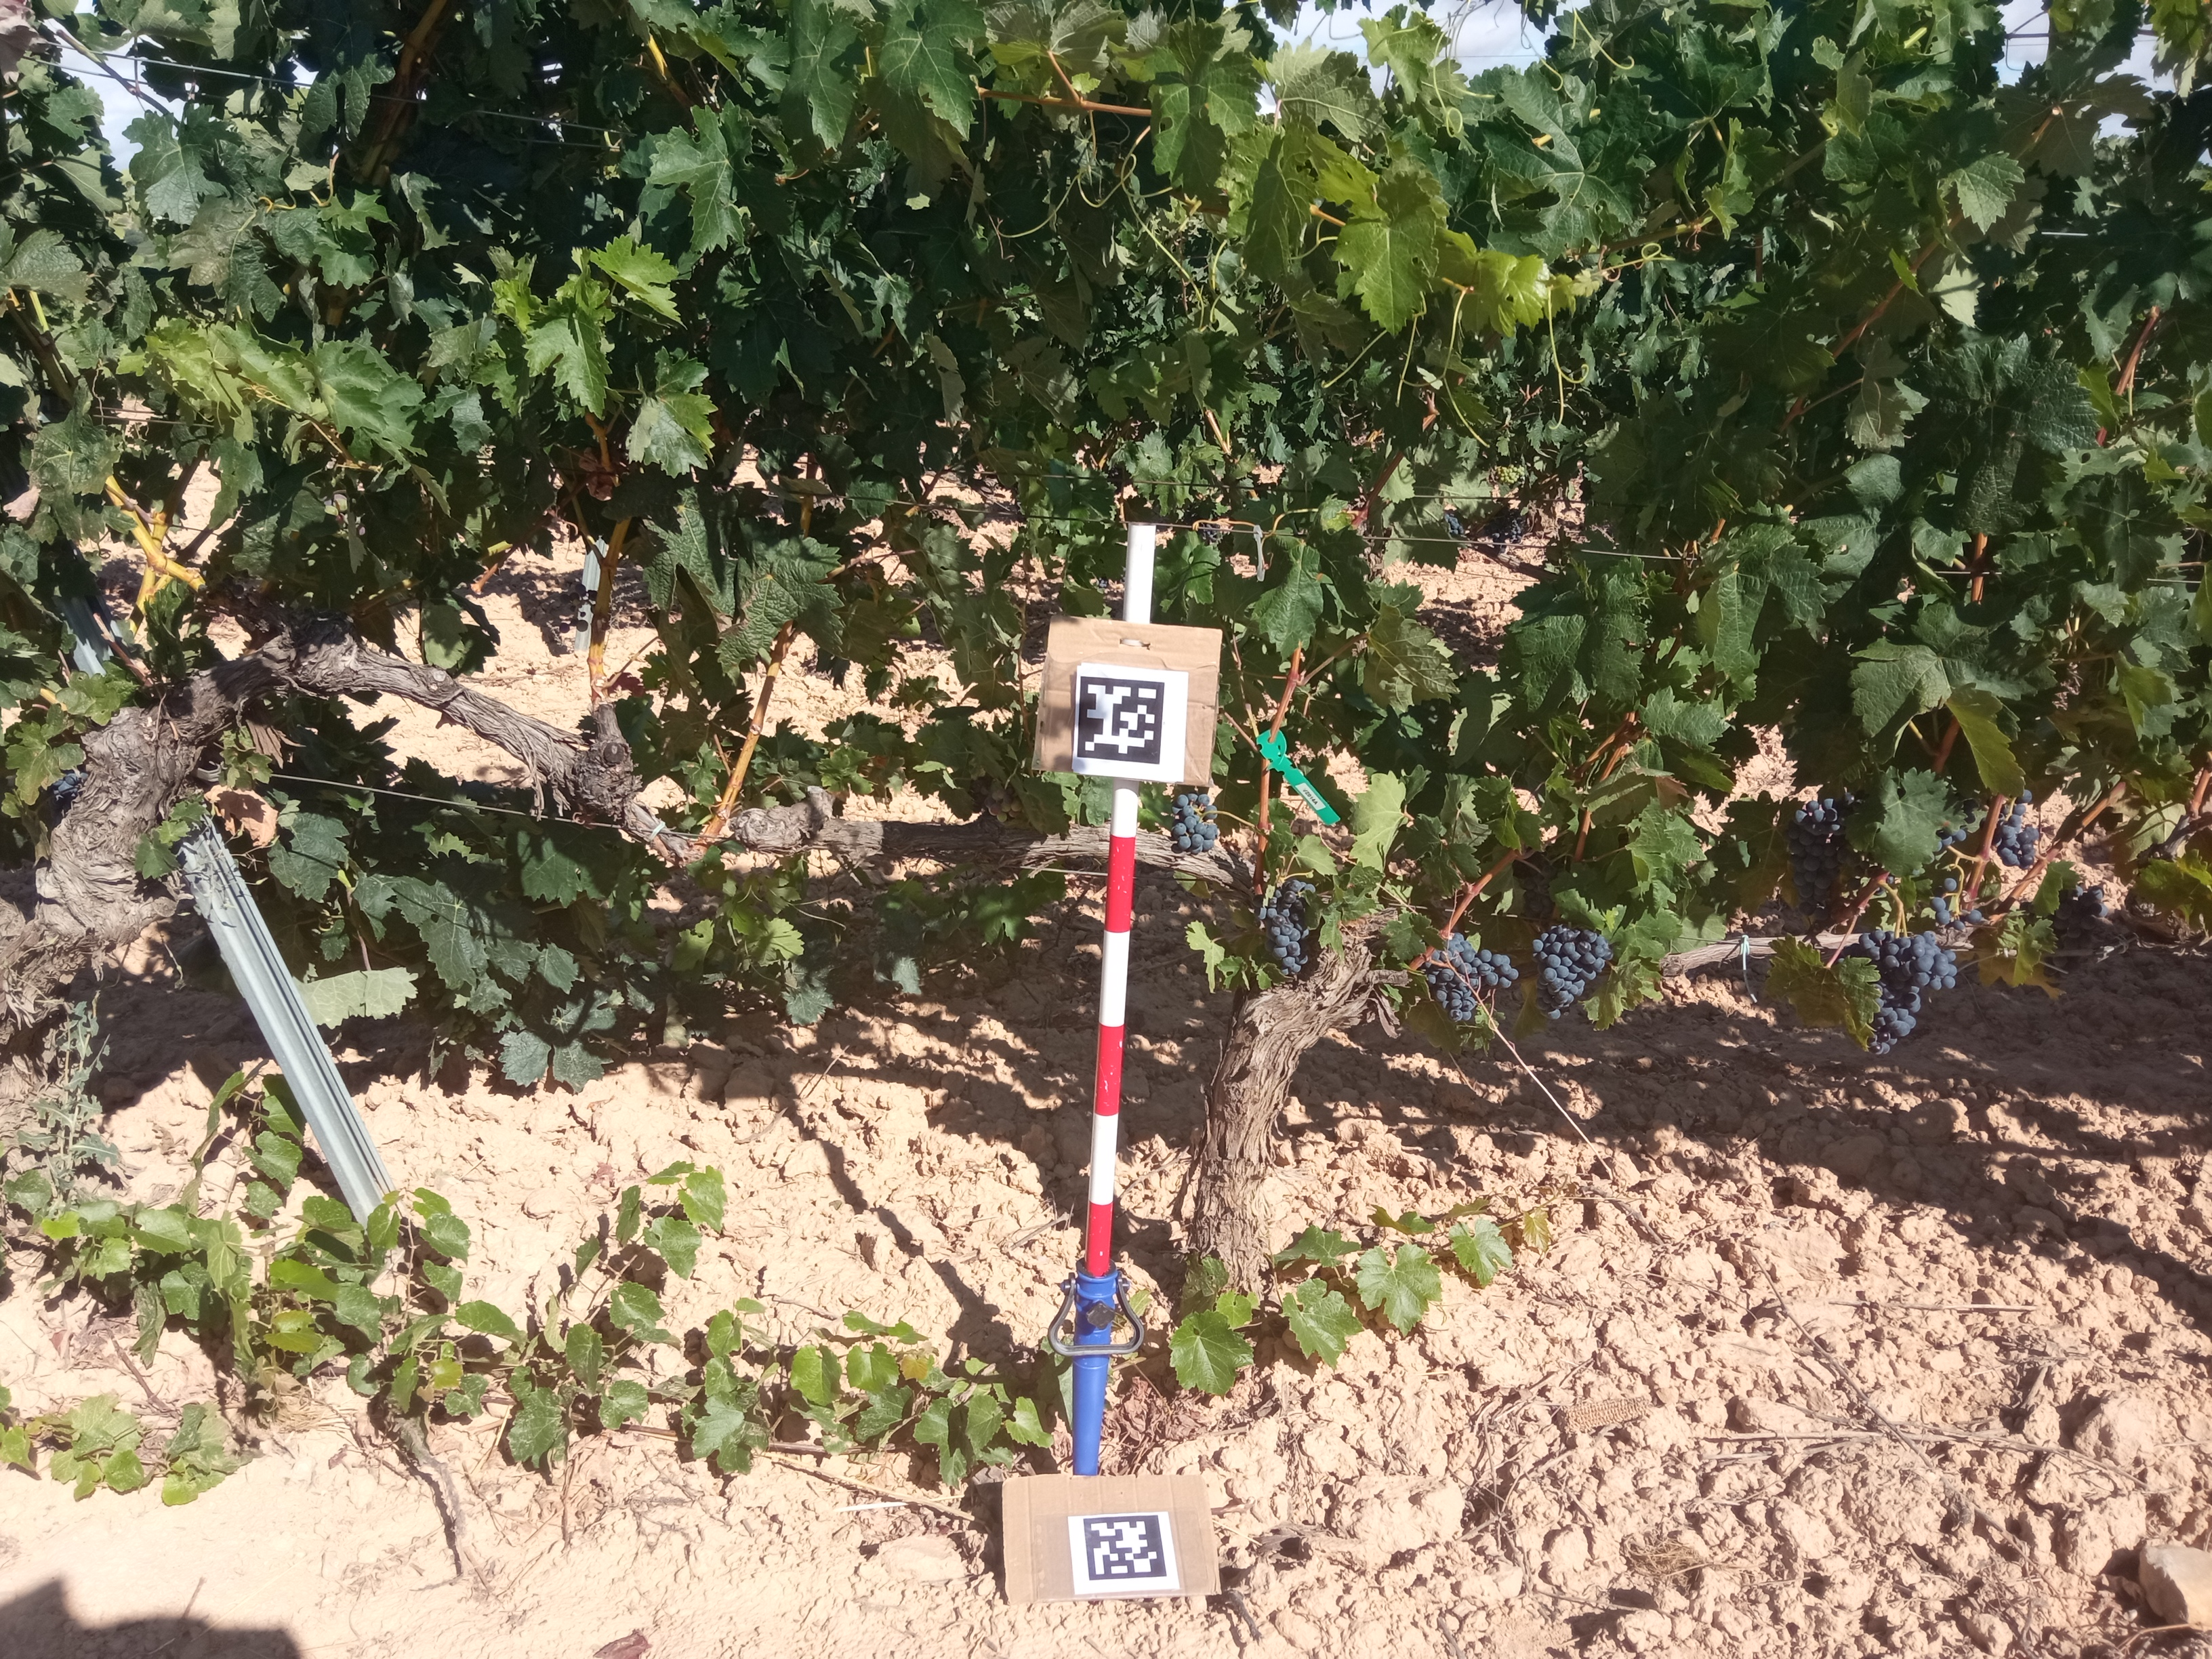grapes: (1857, 929, 1958, 1058), (1784, 789, 1865, 911), (1423, 934, 1519, 1021), (1531, 924, 1613, 1021), (1256, 882, 1322, 979), (2054, 887, 2106, 979), (1169, 788, 1223, 854), (2000, 788, 2038, 868), (1928, 875, 1980, 929)
